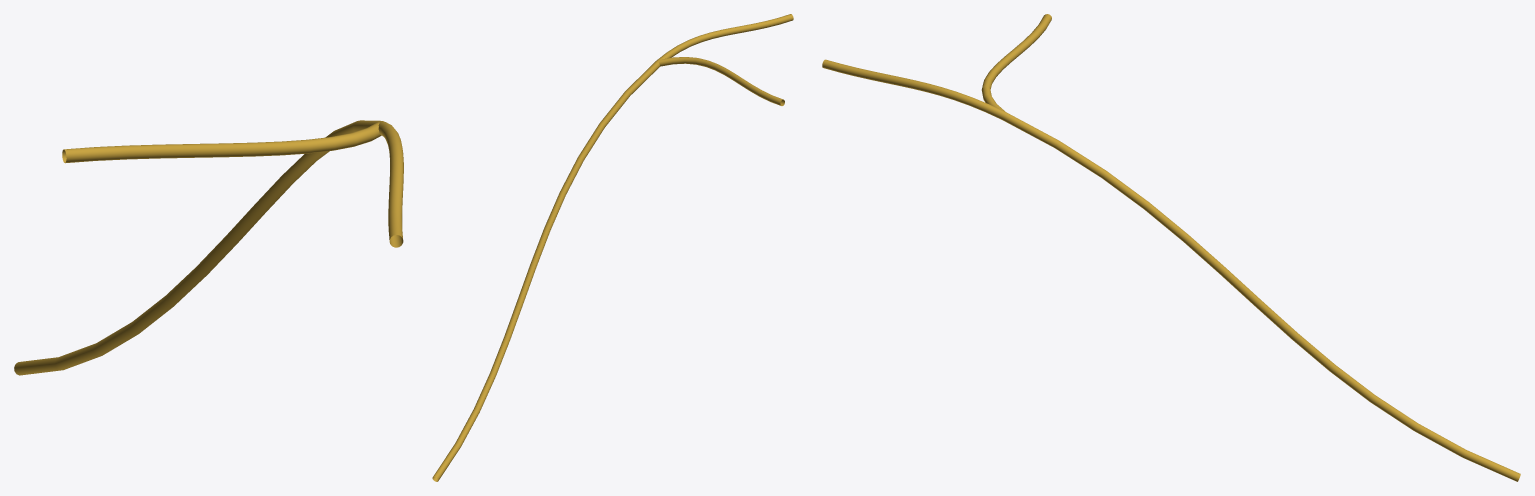
The picture shows the model from 3 angles, left to right: view 1: azimuth 30°, elevation 25°; view 2: azimuth 150°, elevation 25°; view 3: azimuth 270°, elevation 25°; orthographic projection. The views are drawn at different scales.
Parts seen in each view (by area): view 1: 左侧生殖股神经; view 2: 左侧生殖股神经; view 3: 左侧生殖股神经.
Boxes of the visible parts, left/top/right/bottom form: 左侧生殖股神经: left=14, top=120, right=403, bottom=375; 左侧生殖股神经: left=432, top=14, right=793, bottom=481; 左侧生殖股神经: left=822, top=14, right=1520, bottom=481.
Size of the model in its own units: 0.0415 by 0.0676 by 0.1154.
